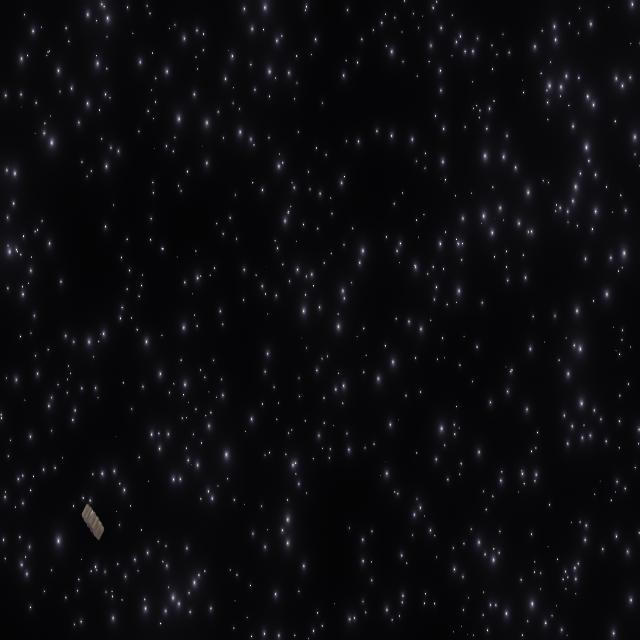large_debris: (78, 498, 106, 550)
